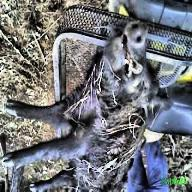boar: (7, 21, 183, 189)
